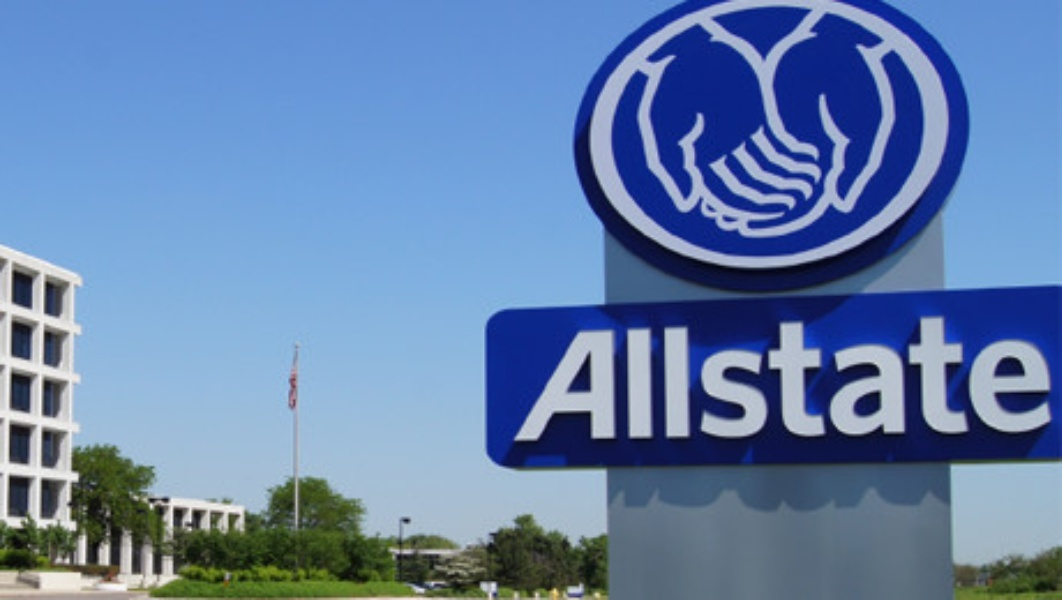text: (593, 310, 608, 441), (609, 310, 624, 441), (625, 310, 640, 441), (641, 310, 656, 441), (657, 310, 672, 441), (673, 310, 688, 441), (689, 310, 704, 441), (705, 310, 720, 441), (721, 310, 736, 441), (737, 310, 752, 441), (753, 310, 768, 441), (769, 310, 784, 441), (785, 310, 800, 441), (801, 310, 816, 441), (817, 310, 832, 441), (833, 310, 848, 441), (849, 310, 864, 441), (865, 310, 880, 441), (881, 310, 896, 441), (897, 310, 912, 441), (913, 310, 928, 441), (929, 310, 944, 441), (945, 310, 960, 441), (961, 310, 976, 441), (977, 310, 992, 441), (993, 310, 1008, 441), (1009, 310, 1024, 441), (1025, 310, 1040, 441), (1041, 310, 1056, 441), (578, 310, 592, 441), (1057, 310, 1058, 441)
